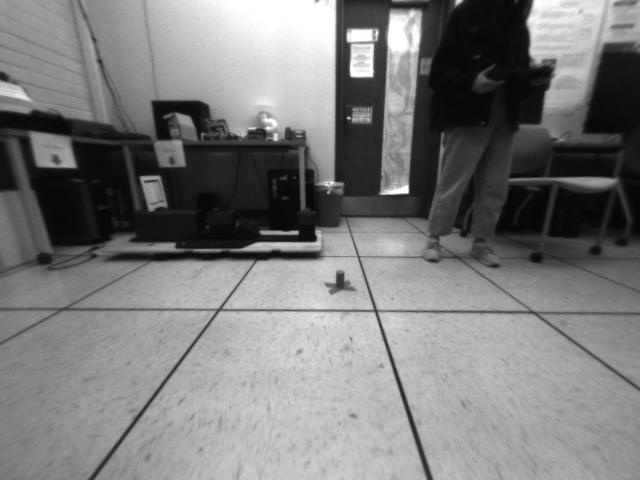x: (323, 271, 356, 294)
